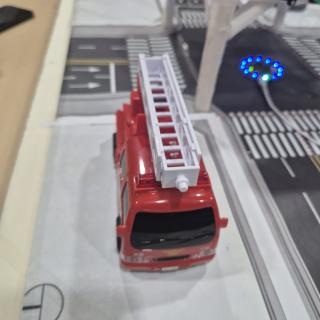Fire_truck: (115, 54, 227, 270)
